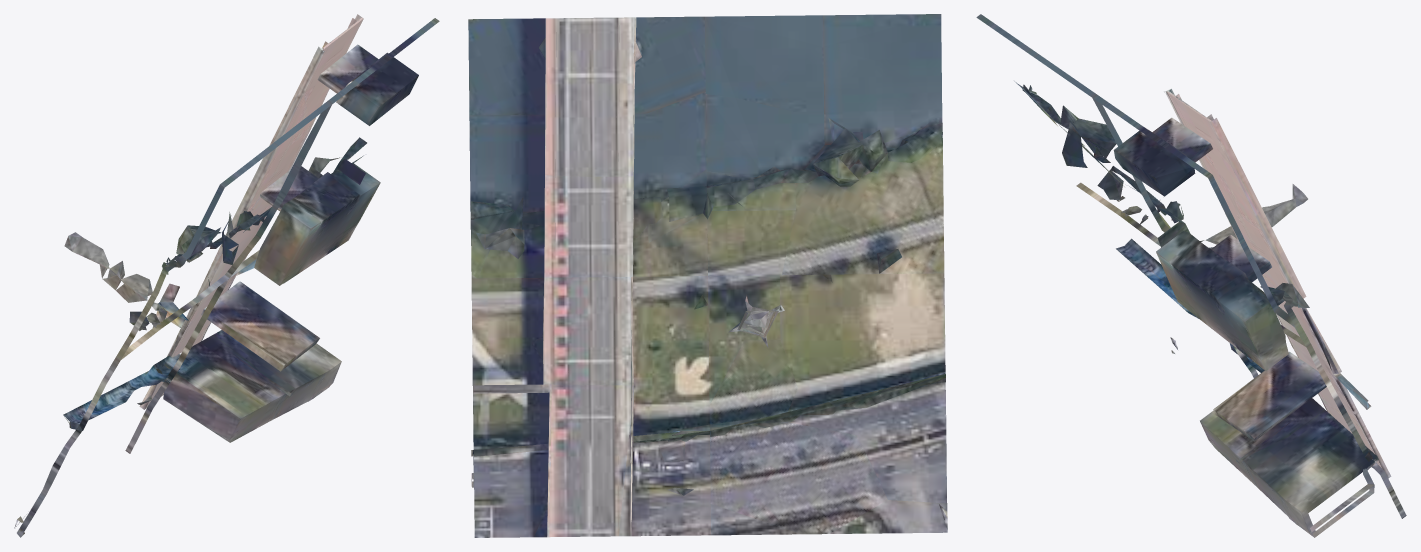
The picture shows the model from 3 angles, left to right: view 1: azimuth 30°, elevation 25°; view 2: azimuth 150°, elevation 25°; view 3: azimuth 270°, elevation 25°; orthographic projection. The views are drawn at different scales.
Bounding box in the file's own units: 157 × 143 × 134.
2 materials, 2 textured.
